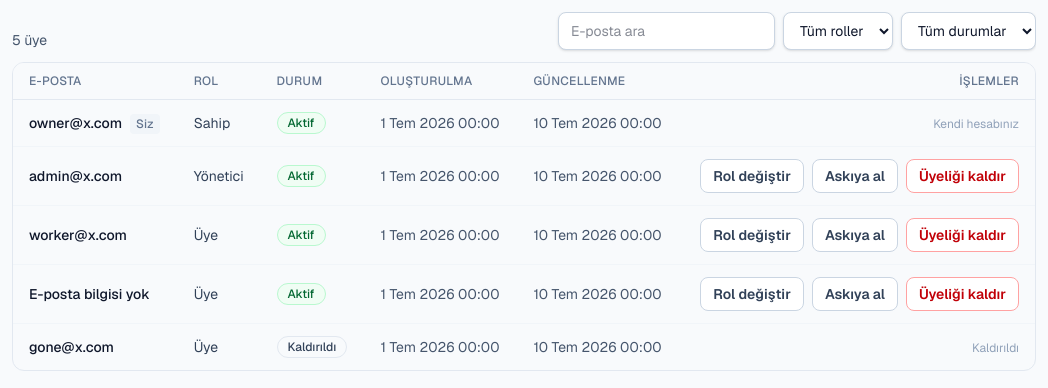
MemberList › durum filtresi removed üyeleri gösterebilir
Select "Kaldırıldı" in the 2nd dropdown named "Duruma göre filtrele": (968, 31) [901,12,1036,50]
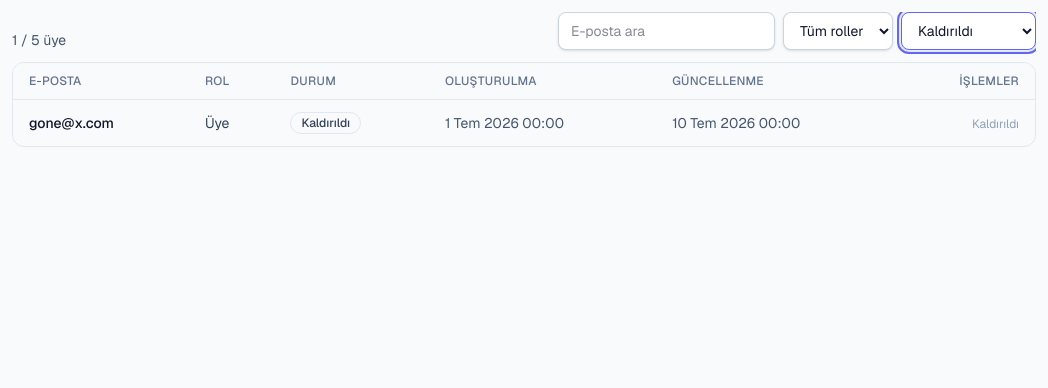
Expected: the text "gone@x.com" is shown, [13,100,189,146]
Expected: the text "owner@x.com" is gone
